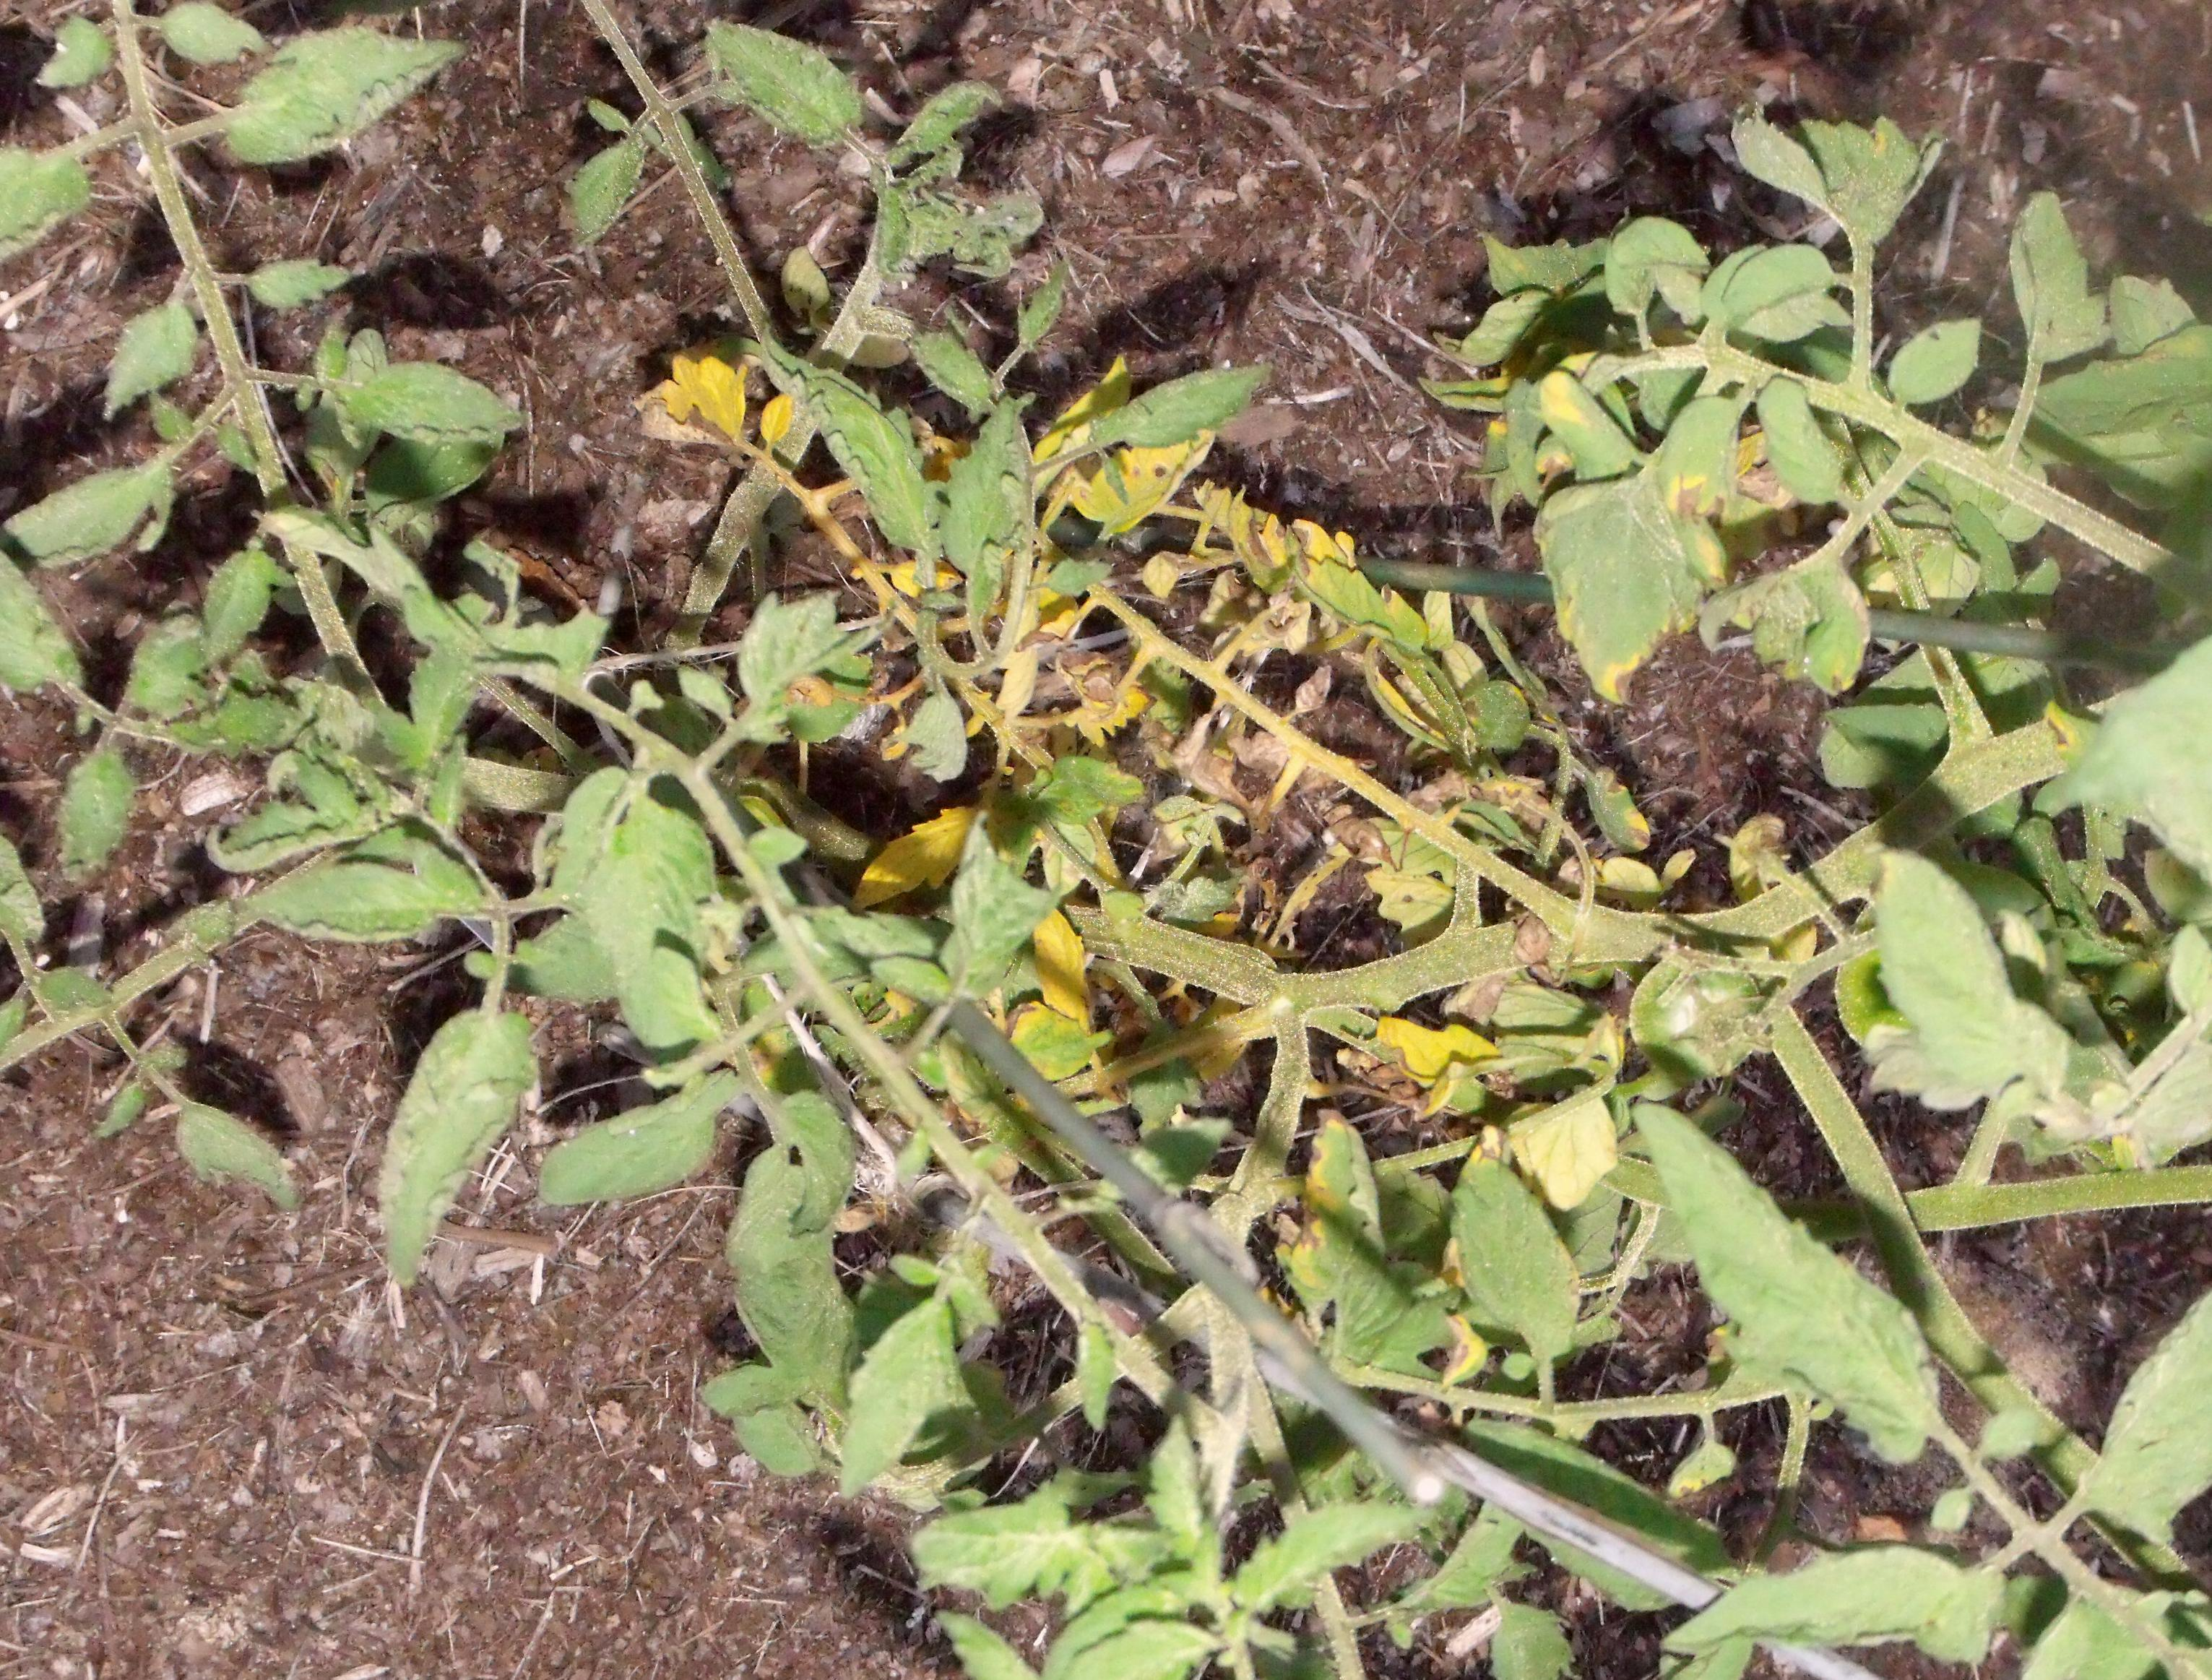Tomato leaf bacterial spot: (1651, 1098, 1963, 1470), (1857, 835, 2066, 1140), (1640, 1525, 2032, 1680), (1244, 1098, 1448, 1382), (1508, 454, 1743, 699), (889, 1472, 1229, 1634), (794, 1256, 1027, 1491), (519, 1032, 778, 1223), (790, 335, 961, 616), (1406, 1114, 1589, 1371), (1722, 505, 1875, 745), (2101, 1255, 2212, 1578)
